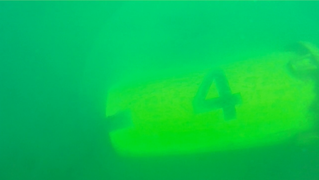4: (196, 69, 240, 120)
pipe: (105, 40, 319, 159)
